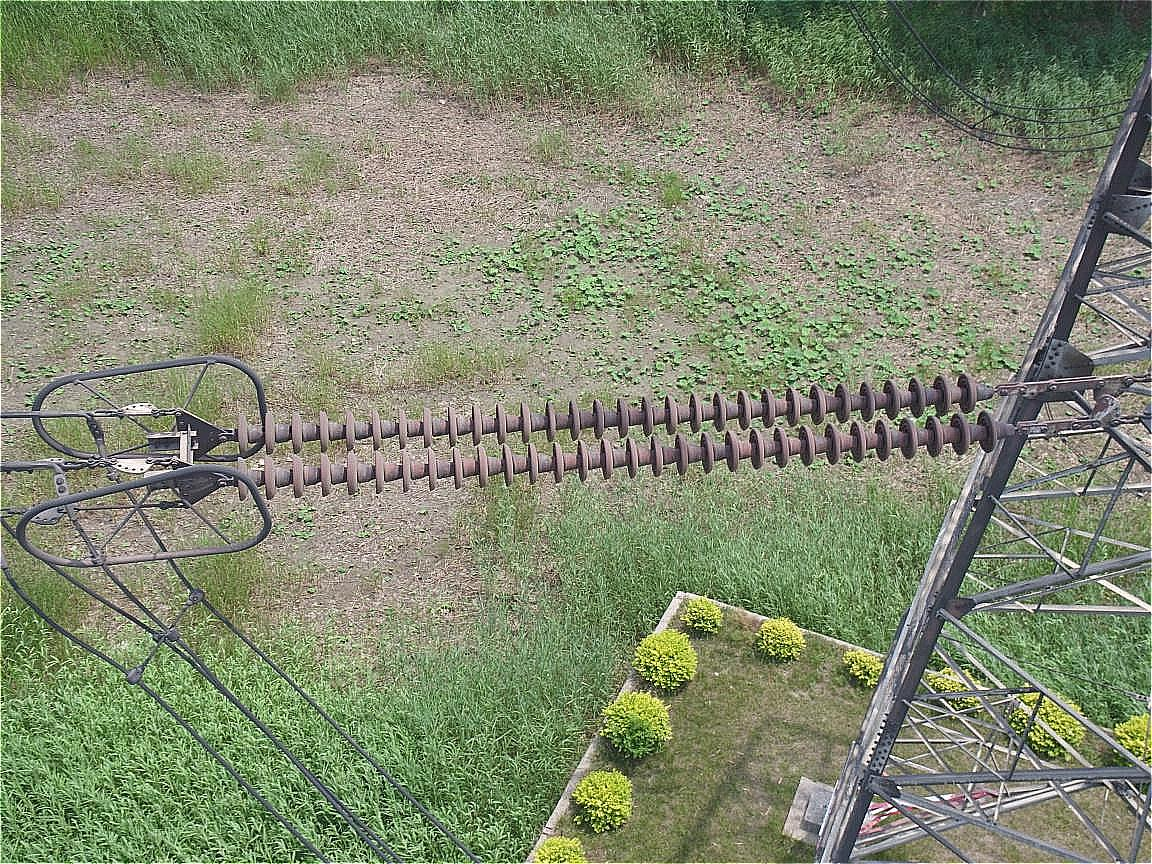insultor1: (189, 355, 1053, 501)
